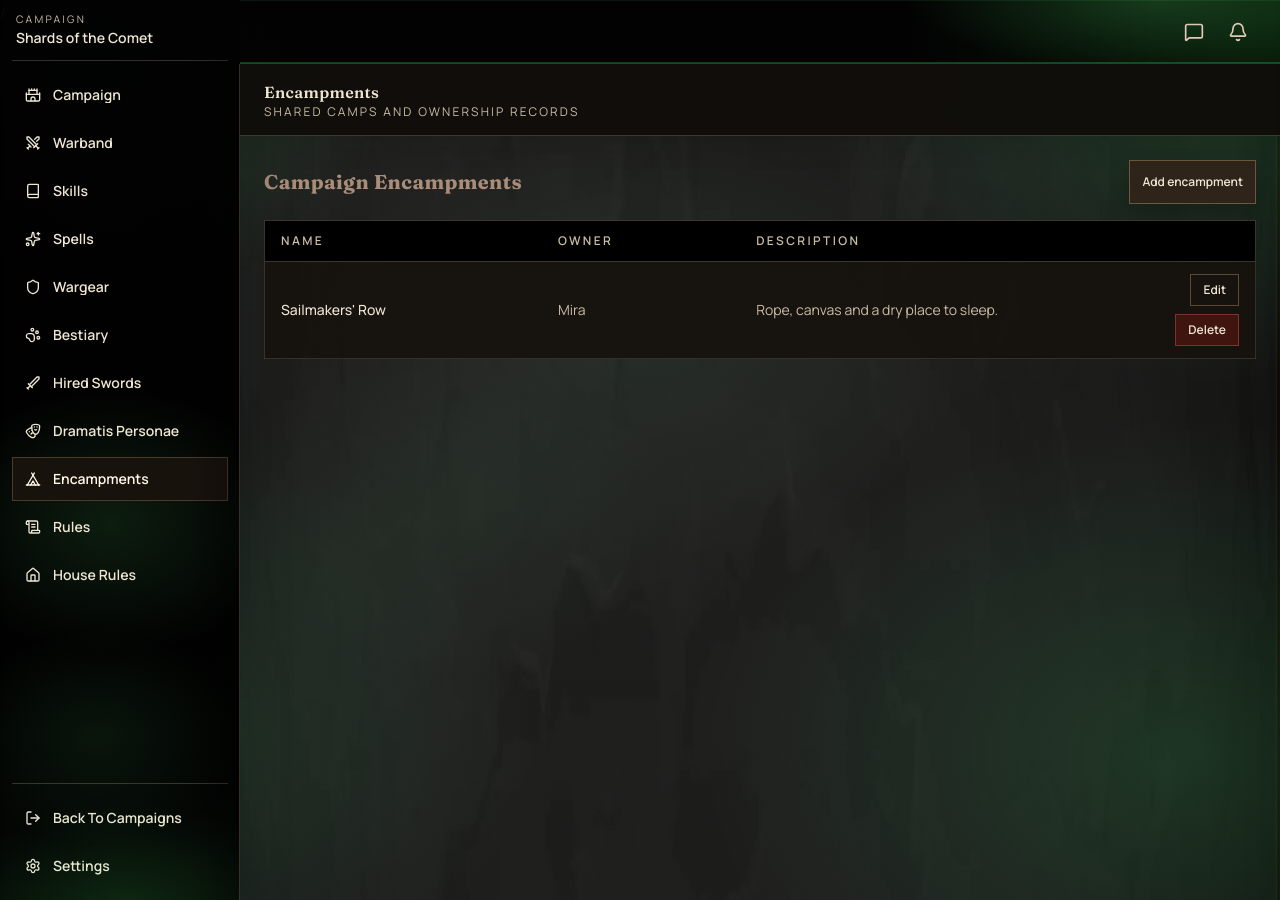
Encampments: adding and editing, as the owner › can give a new encampment to nobody
Expected: the heading "Campaign Encampments" is shown, [264, 168, 522, 196]
Expected: the row "Sailmakers' Row" is shown, [264, 262, 1256, 358]
Click the button "Add encampment" at point(1193, 182), box [1129, 160, 1256, 204]
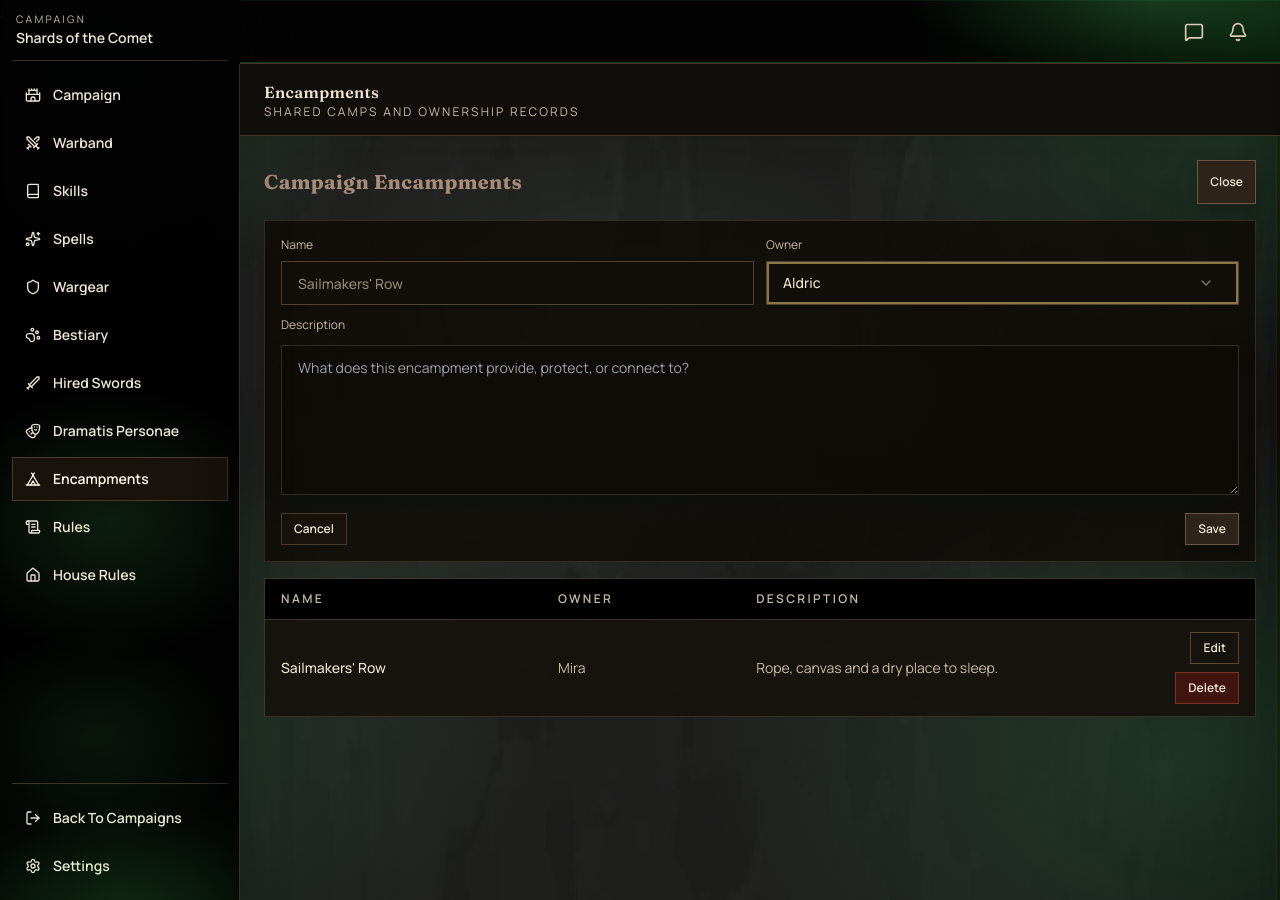
Press Enter
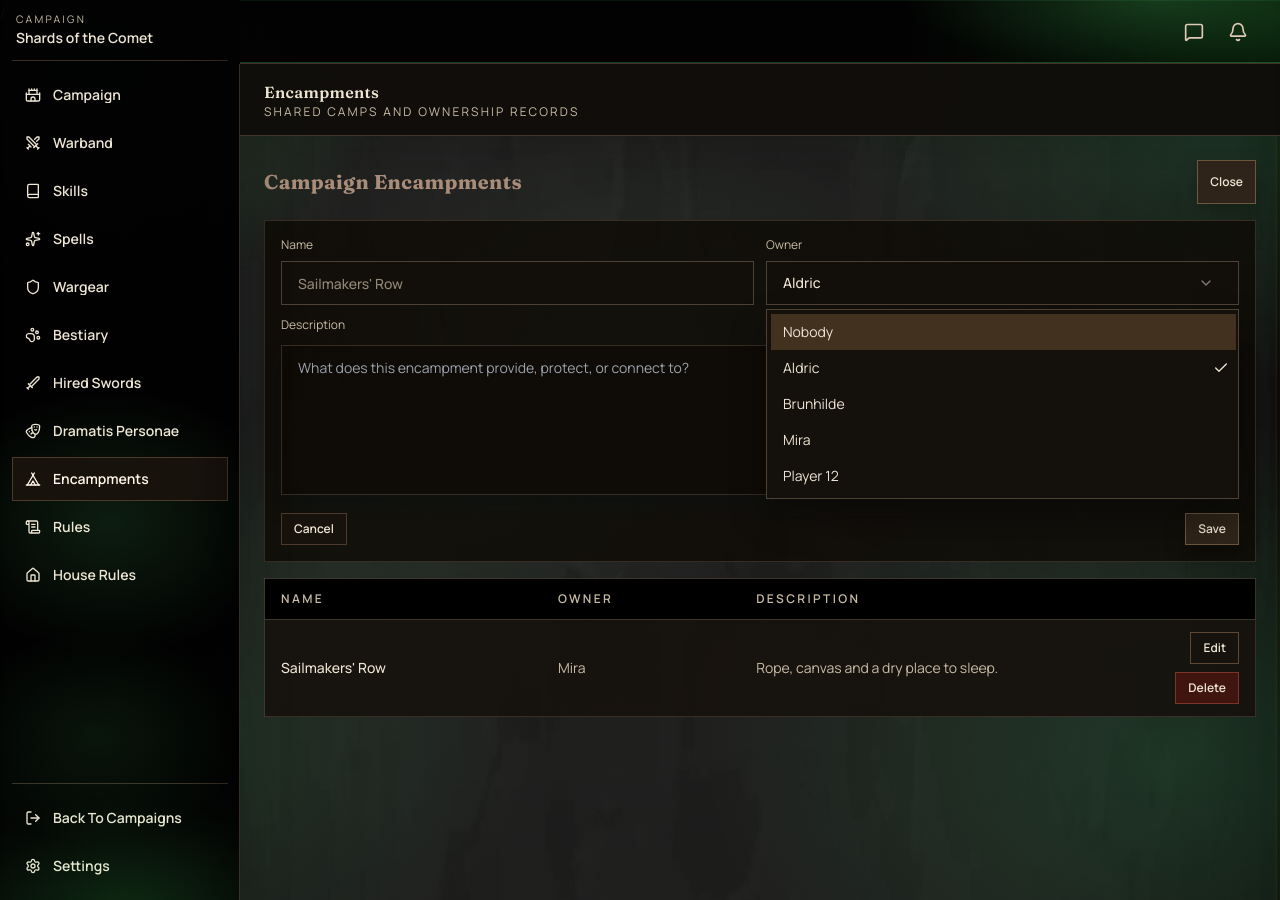
Press Enter
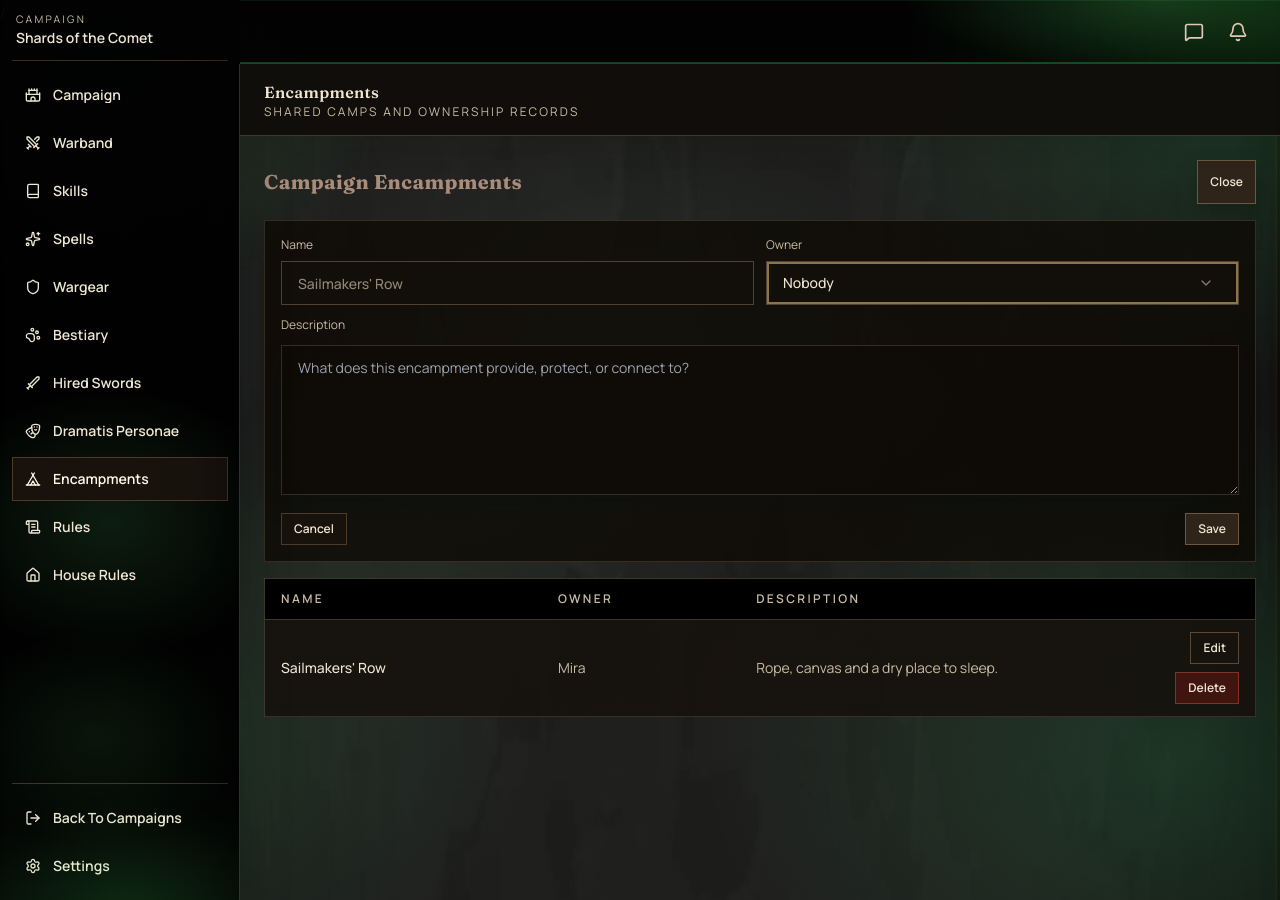
Type "Bell Tower" into the field with placeholder "Sailmakers' Row" at point(518, 283), box [281, 261, 754, 305]
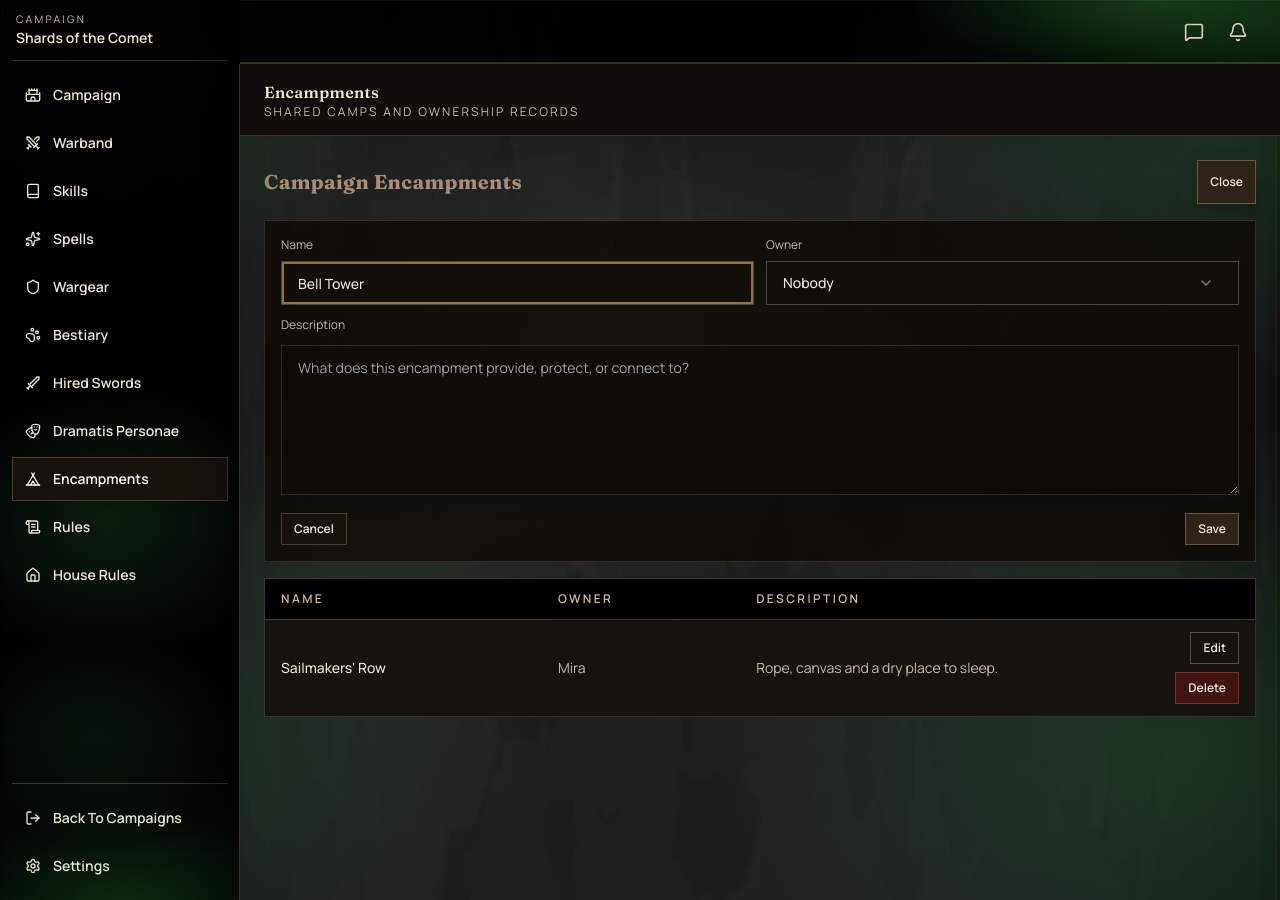
Click the button "Save" at point(1212, 529), box [1185, 513, 1239, 545]
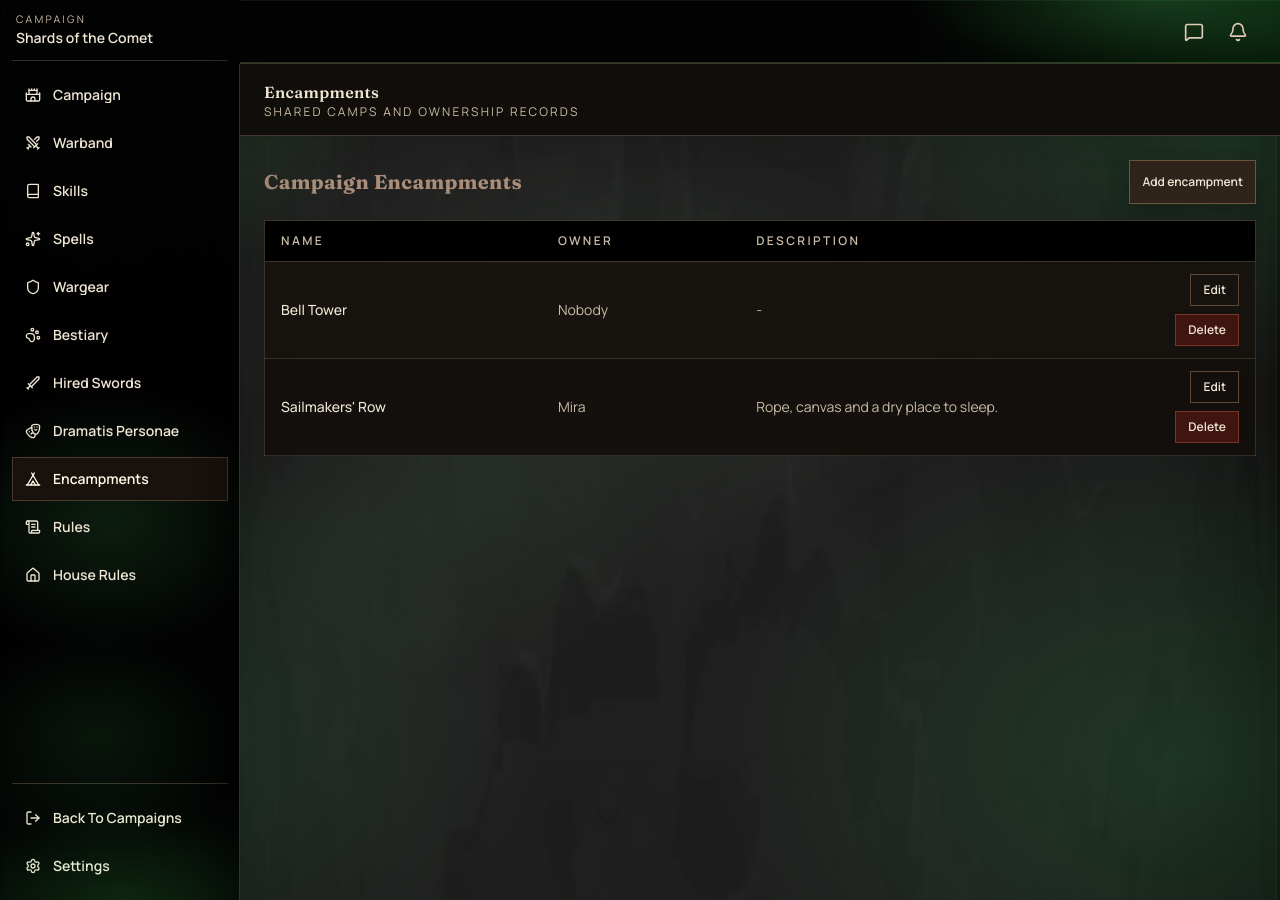
Result: the row "Bell Tower Nobody - Edit Delete" is shown at [264, 262, 1256, 358]
